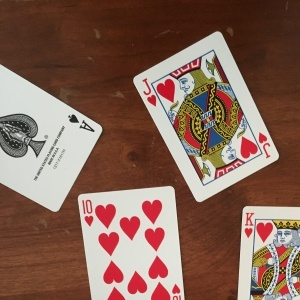card: (131, 31, 279, 202), (1, 65, 105, 196)
